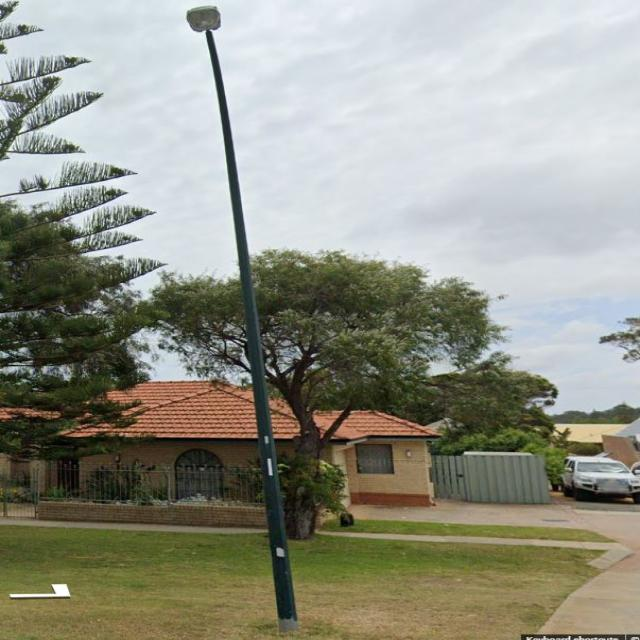steel-pole: (216, 91, 298, 634)
streetlight: (184, 5, 229, 104)
